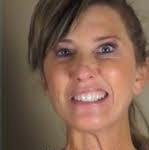strokeEyeWeak: (53, 37, 122, 62)
